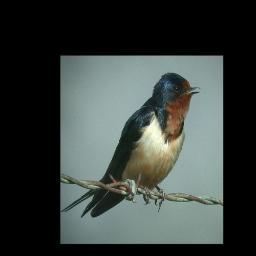Swallow: (60, 72, 201, 218)
